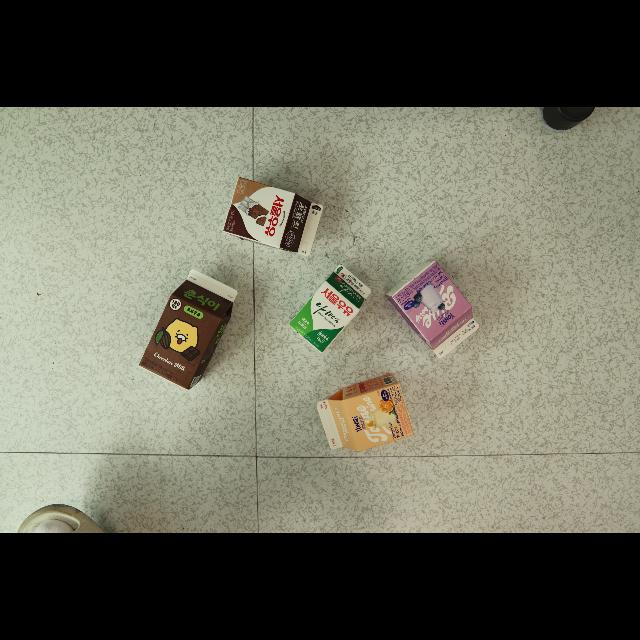milk: (139, 269, 237, 390), (386, 261, 479, 358), (223, 177, 323, 256), (318, 374, 414, 452), (290, 265, 371, 353)
